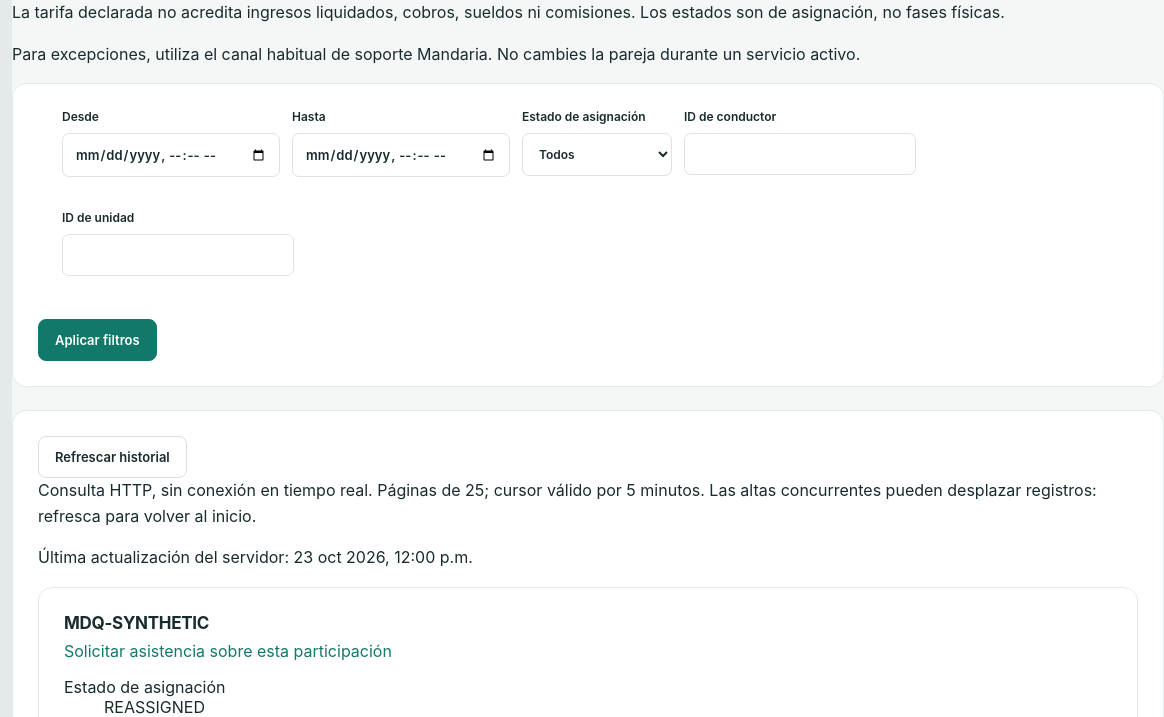
Scenario: retains filters for cursor, deduplicates assignments and resets on changed filters
Expected: the heading "MDQ-SYNTHETIC" is shown, [64,613,209,633]
Select "ACTIVE" in the dropdown labelled "Estado de asignación": coordinates (597, 155) [522,133,672,176]
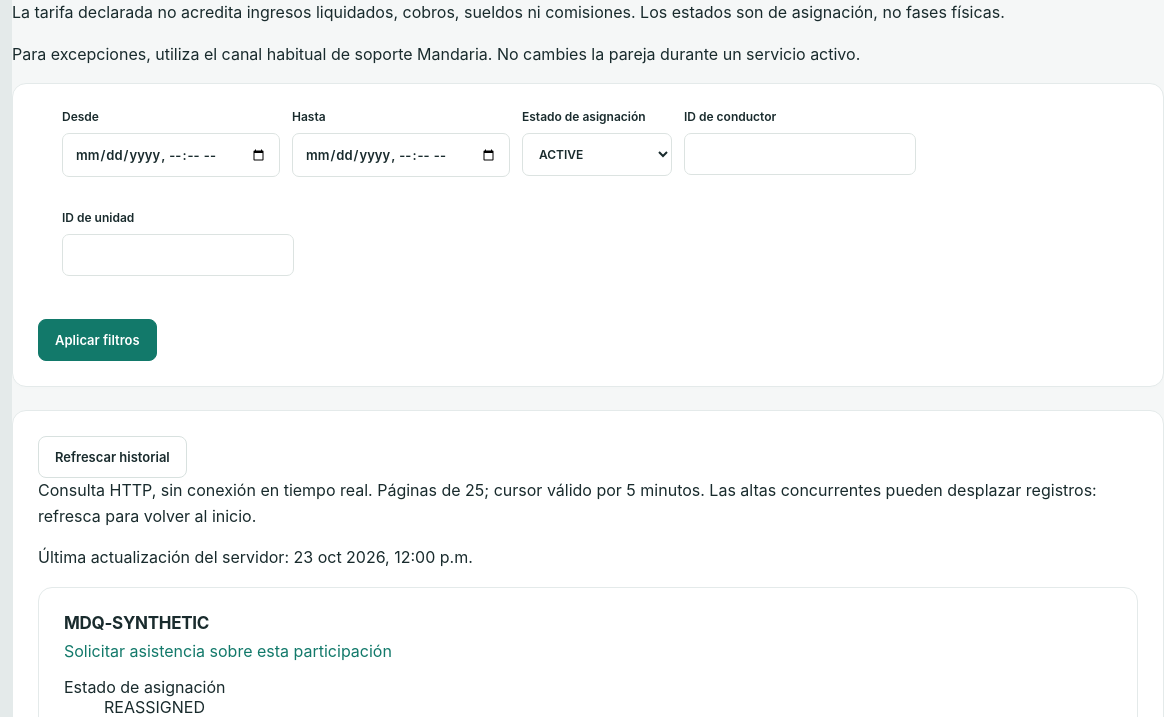
Click the button "Aplicar filtros": coordinates (97, 340) [38,319,157,361]
(page scrolled)
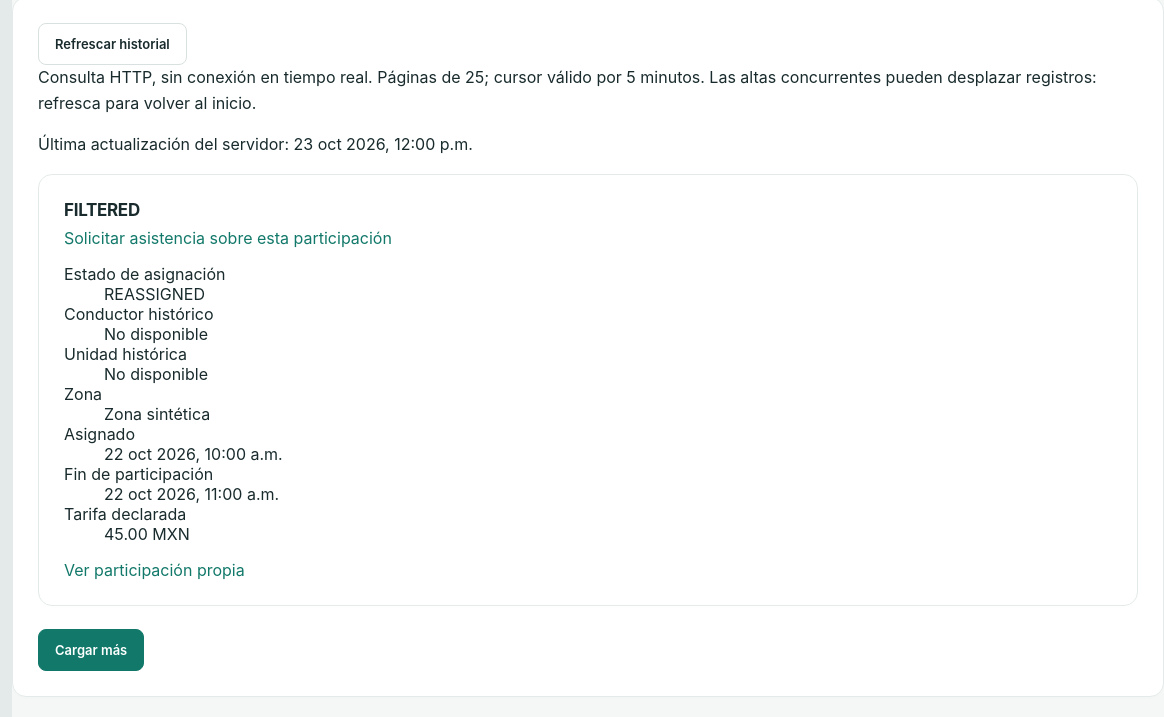
Now the heading "FILTERED" is shown, box [64,200,140,220]
Now the heading "MDQ-SYNTHETIC" is gone
Click the button "Cargar más": coordinates (91, 650) [38,629,144,671]
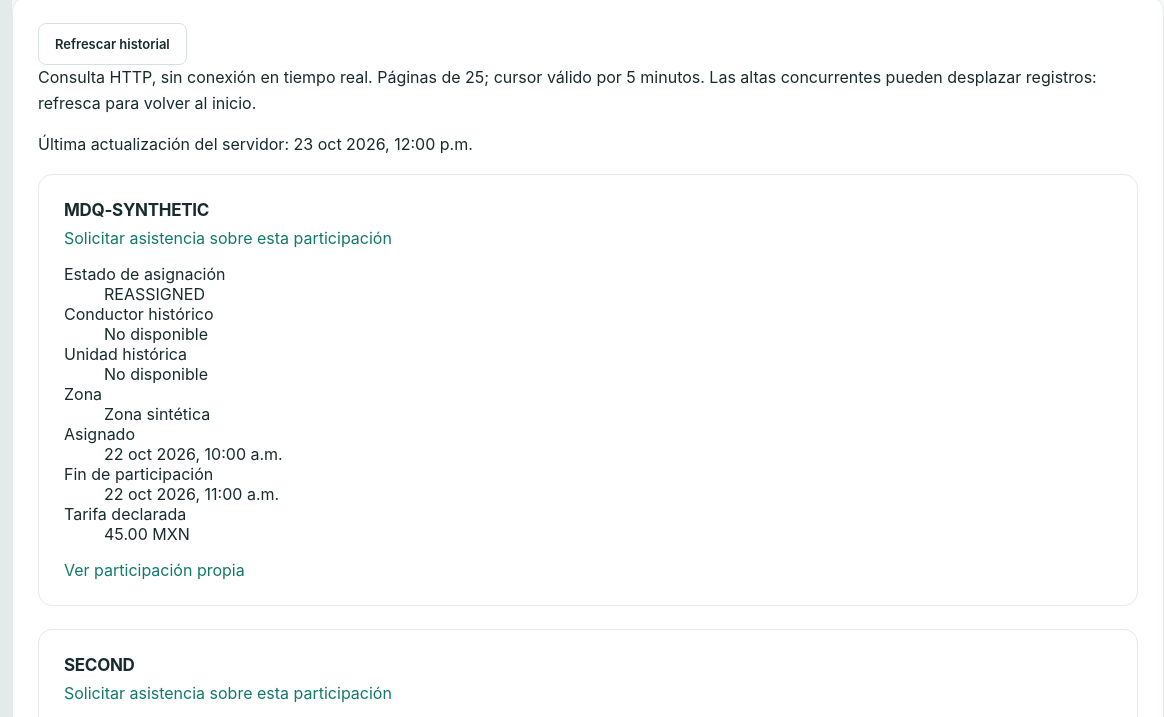
Now the heading "SECOND" is shown, box [64,655,135,675]
